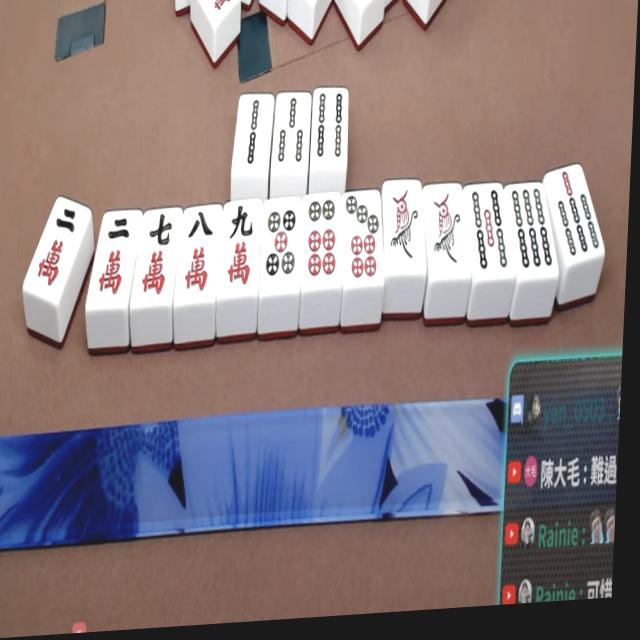m2: (29, 199, 88, 299), (94, 213, 134, 302)
m7: (140, 213, 179, 300)
m8: (181, 208, 220, 297)
m9: (222, 203, 259, 289)
s1: (427, 189, 466, 277), (386, 185, 423, 270)
s2: (236, 91, 271, 176)
s3: (271, 95, 310, 173)
s4: (310, 88, 349, 167)
s5: (465, 185, 516, 279)
s6: (505, 182, 565, 281)
s7: (547, 164, 611, 267)
t5: (261, 201, 300, 286)
t6: (302, 194, 341, 287)
t7: (342, 192, 384, 284)
